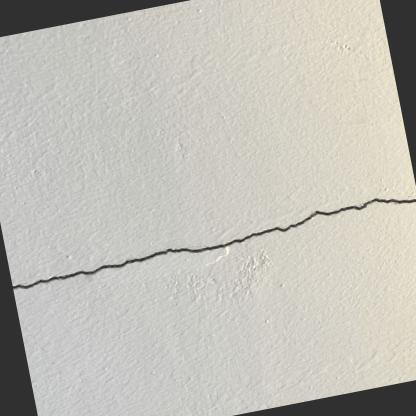crack: (11, 198, 416, 290)
